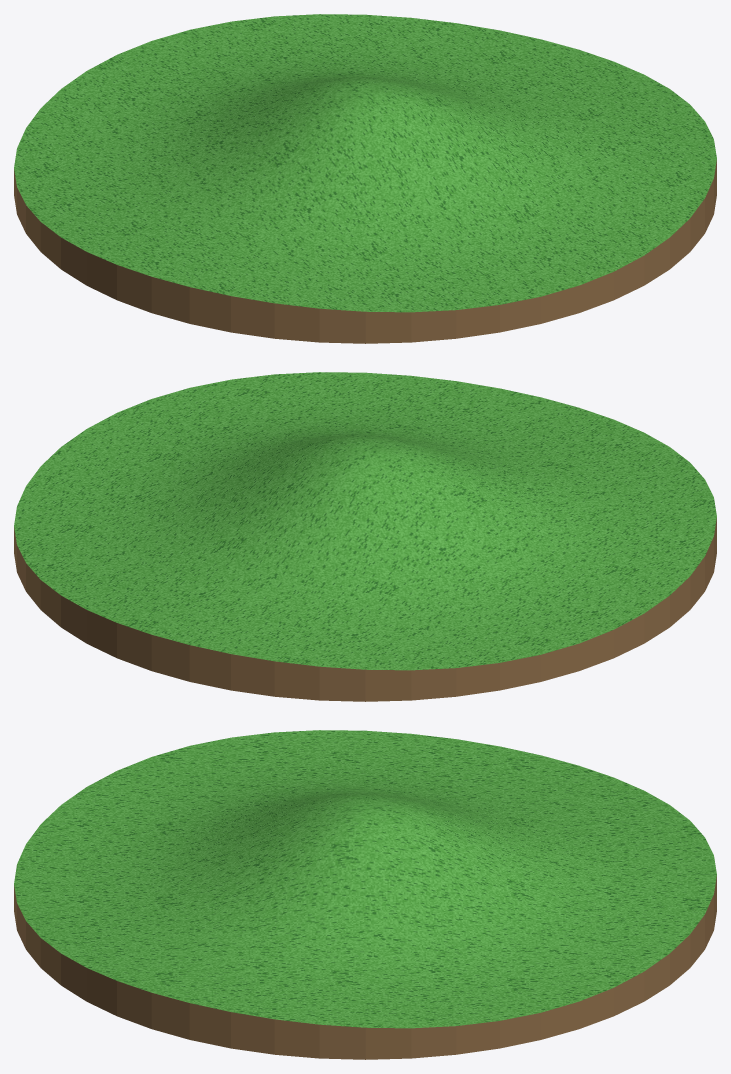
File: hill_island.obj
The picture shows the model from 3 angles, top to bottom: view 1: azimuth 30°, elevation 25°; view 2: azimuth 150°, elevation 25°; view 3: azimuth 270°, elevation 25°; orthographic projection.
Bounding box in the file's own units: 20 × 3.2 × 20.
2 materials, 1 textured.
